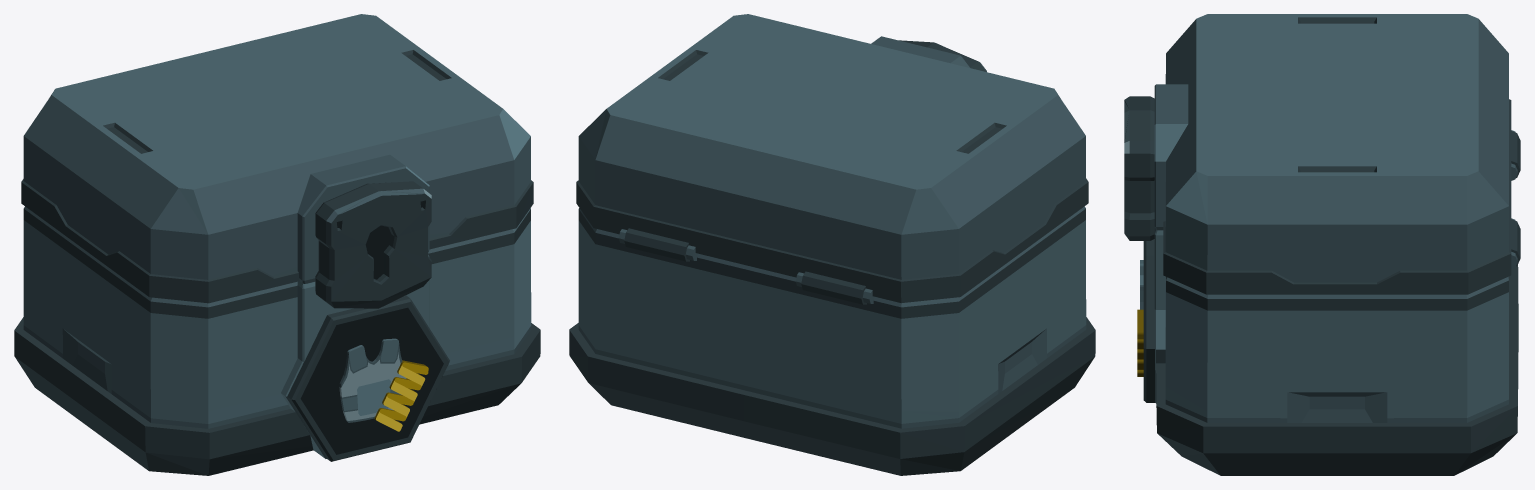
File: BOX_MATERAL_G1_04.fbx
3 renders of one model, left to right at view 1: azimuth 30°, elevation 25°; view 2: azimuth 150°, elevation 25°; view 3: azimuth 270°, elevation 25°, orthographic. The views are drawn at different scales.
Parts seen in each view (by area): view 1: Object003, BOX_MATERAL_G1_04, Object004; view 2: Object003, BOX_MATERAL_G1_04; view 3: Object003, BOX_MATERAL_G1_04, Object004.
Part boxes in pixels (<box>): Object003: <box>21,14,533,303</box>; BOX_MATERAL_G1_04: <box>14,206,540,475</box>; Object004: <box>315,181,431,308</box>; Object003: <box>576,14,1088,304</box>; BOX_MATERAL_G1_04: <box>569,206,1095,475</box>; Object003: <box>1154,14,1520,294</box>; BOX_MATERAL_G1_04: <box>1137,228,1518,475</box>; Object004: <box>1124,96,1154,240</box>.
Bounding box in the file's own units: 187 × 128 × 158.
